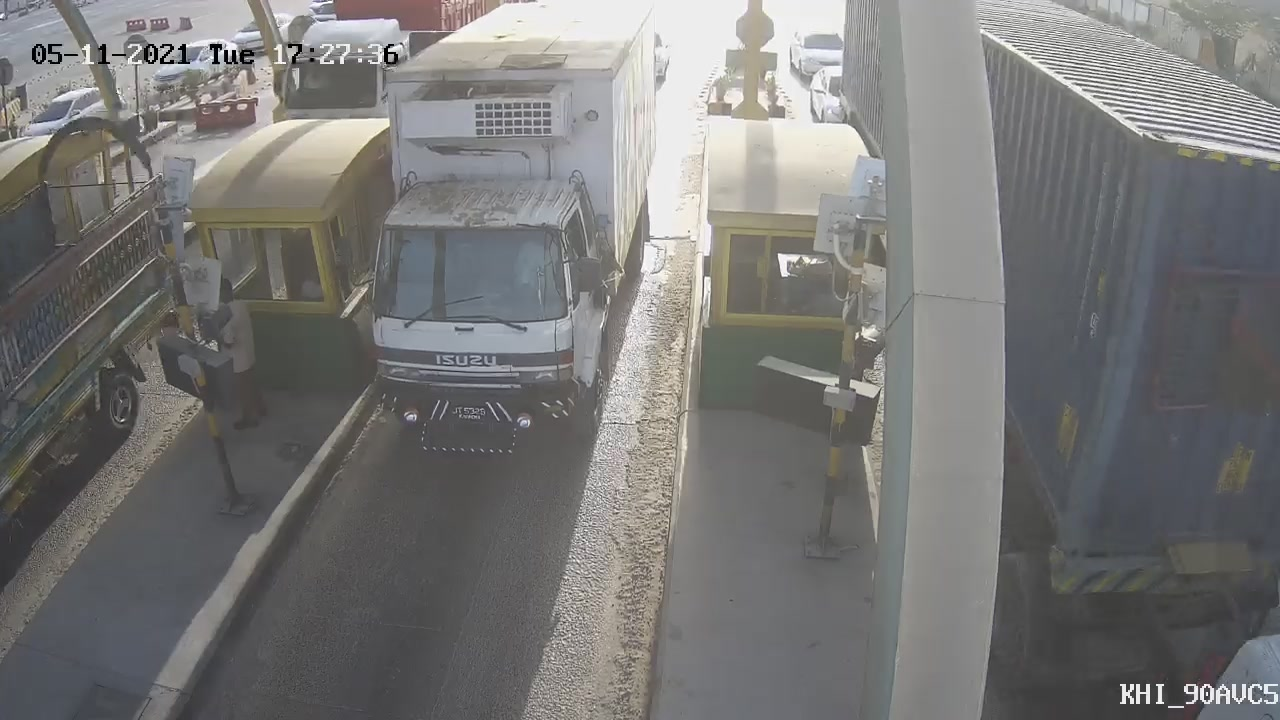F5: (313, 1, 683, 474)
